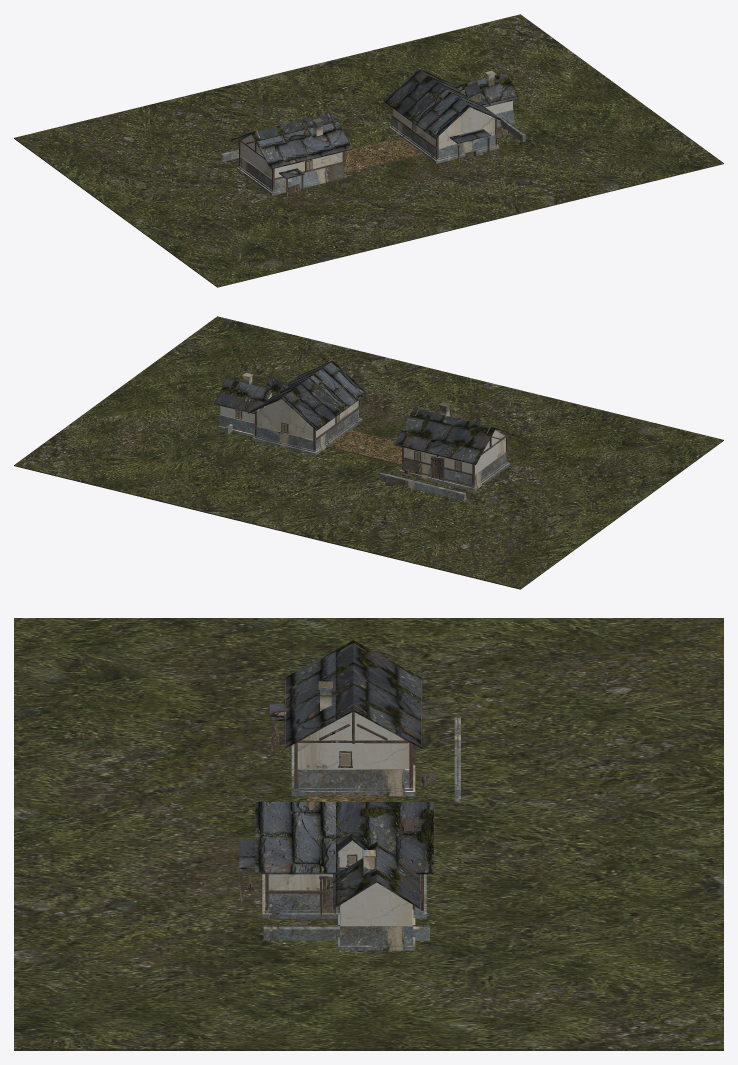
The model's file is barrosan_houses_a03.glb.
3 renders of one model, top to bottom at view 1: azimuth 30°, elevation 25°; view 2: azimuth 150°, elevation 25°; view 3: azimuth 270°, elevation 25°, orthographic. The views are drawn at different scales.
Parts seen in each view (by area): view 1: Grass, A_Roof_S, B_Roof_W, LaneDirt, A_Stone, B_Stone, A_Plaster, B_WingRoof_S, B_Plaster, B_Gable_S, B_Roof_E; view 2: Grass, A_Roof_N, B_Roof_W, LaneDirt, B_WingRoof_N, B_Stone, B_Plaster, A_Stone, A_Plaster, A_WallF, B_Gable_N, B_Roof_E; view 3: Grass, B_Roof_E, A_Roof_N, A_Roof_S, A_Plaster, A_Stone, B_WingRoof_N, B_WingStone, B_WingPlaster, A_Gable_E, B_WallE, B_WingRoof_S (+5 smaller).
Part boxes in pixels (x1=…): Grass: x1=14, y1=14, x2=723, y2=287; A_Roof_S: x1=251, y1=112, x2=352, y2=169; B_Roof_W: x1=384, y1=69, x2=469, y2=138; LaneDirt: x1=345, y1=137, x2=423, y2=173; A_Stone: x1=240, y1=156, x2=342, y2=190; B_Stone: x1=392, y1=117, x2=495, y2=158; A_Plaster: x1=240, y1=142, x2=342, y2=178; B_WingRoof_S: x1=461, y1=73, x2=519, y2=107; B_Plaster: x1=393, y1=109, x2=494, y2=147; B_Gable_S: x1=442, y1=107, x2=494, y2=133; B_Roof_E: x1=419, y1=69, x2=504, y2=121; Grass: x1=14, y1=316, x2=723, y2=589; A_Roof_N: x1=394, y1=408, x2=495, y2=464; B_Roof_W: x1=282, y1=360, x2=367, y2=430; LaneDirt: x1=327, y1=430, x2=401, y2=465; B_WingRoof_N: x1=214, y1=378, x2=272, y2=413; B_Stone: x1=256, y1=409, x2=359, y2=449; B_Plaster: x1=257, y1=400, x2=358, y2=439; A_Stone: x1=403, y1=452, x2=506, y2=485; A_Plaster: x1=404, y1=437, x2=505, y2=474; A_WallF: x1=379, y1=472, x2=465, y2=500; B_Gable_N: x1=257, y1=399, x2=309, y2=424; B_Roof_E: x1=247, y1=361, x2=331, y2=413; Grass: x1=14, y1=618, x2=723, y2=1050; B_Roof_E: x1=255, y1=802, x2=433, y2=874; A_Roof_N: x1=353, y1=640, x2=422, y2=748; A_Roof_S: x1=284, y1=640, x2=353, y2=748; A_Plaster: x1=297, y1=742, x2=409, y2=769; A_Stone: x1=297, y1=769, x2=409, y2=787; B_WingRoof_N: x1=376, y1=842, x2=420, y2=908; B_WingStone: x1=340, y1=905, x2=413, y2=945; B_WingPlaster: x1=341, y1=905, x2=412, y2=925; A_Gable_E: x1=302, y1=712, x2=404, y2=740; B_WallE: x1=263, y1=926, x2=429, y2=940; B_WingRoof_S: x1=333, y1=842, x2=376, y2=909.
Size of the model in its own units: 46 by 4.81 by 32.
8 materials, 6 textured.
